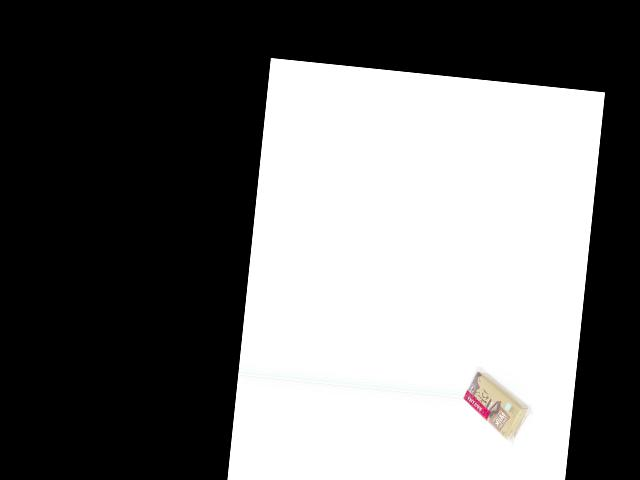chocolate: (460, 369, 533, 449)
